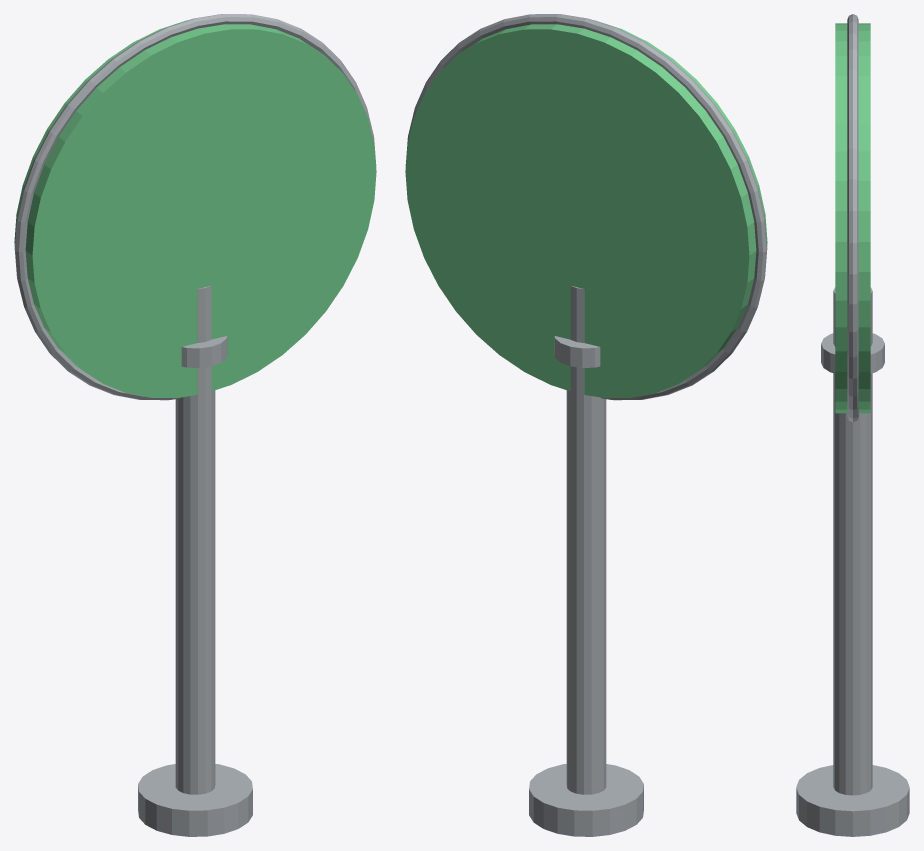
Rendered from state-fair-pin-atm.glb.
3 views of the same model, side by side, from view 1: azimuth 30°, elevation 25°; view 2: azimuth 150°, elevation 25°; view 3: azimuth 270°, elevation 25° (orthographic).
Parts seen in each view (by area): view 1: SFPIN_SignDisc, SFPIN_Post, SFPIN_Rim, SFPIN_Base, SFPIN_Collar; view 2: SFPIN_SignDisc, SFPIN_Post, SFPIN_Rim, SFPIN_Base, SFPIN_Collar; view 3: SFPIN_Post, SFPIN_SignDisc, SFPIN_Base, SFPIN_Rim, SFPIN_Collar.
Boxes of the visible parts, x1,y1,x2,y2 form: SFPIN_SignDisc: [14, 20, 376, 397]; SFPIN_Post: [175, 286, 215, 794]; SFPIN_Rim: [14, 14, 376, 400]; SFPIN_Base: [138, 764, 252, 836]; SFPIN_Collar: [181, 336, 227, 367]; SFPIN_SignDisc: [405, 20, 767, 397]; SFPIN_Post: [566, 286, 606, 794]; SFPIN_Rim: [405, 14, 767, 400]; SFPIN_Base: [529, 764, 643, 836]; SFPIN_Collar: [554, 336, 600, 367]; SFPIN_Post: [833, 287, 872, 795]; SFPIN_SignDisc: [835, 23, 870, 413]; SFPIN_Base: [796, 765, 909, 836]; SFPIN_Rim: [847, 14, 858, 422]; SFPIN_Collar: [821, 333, 884, 373].
Size of the model in its own units: 1.15 by 2.43 by 0.32.
